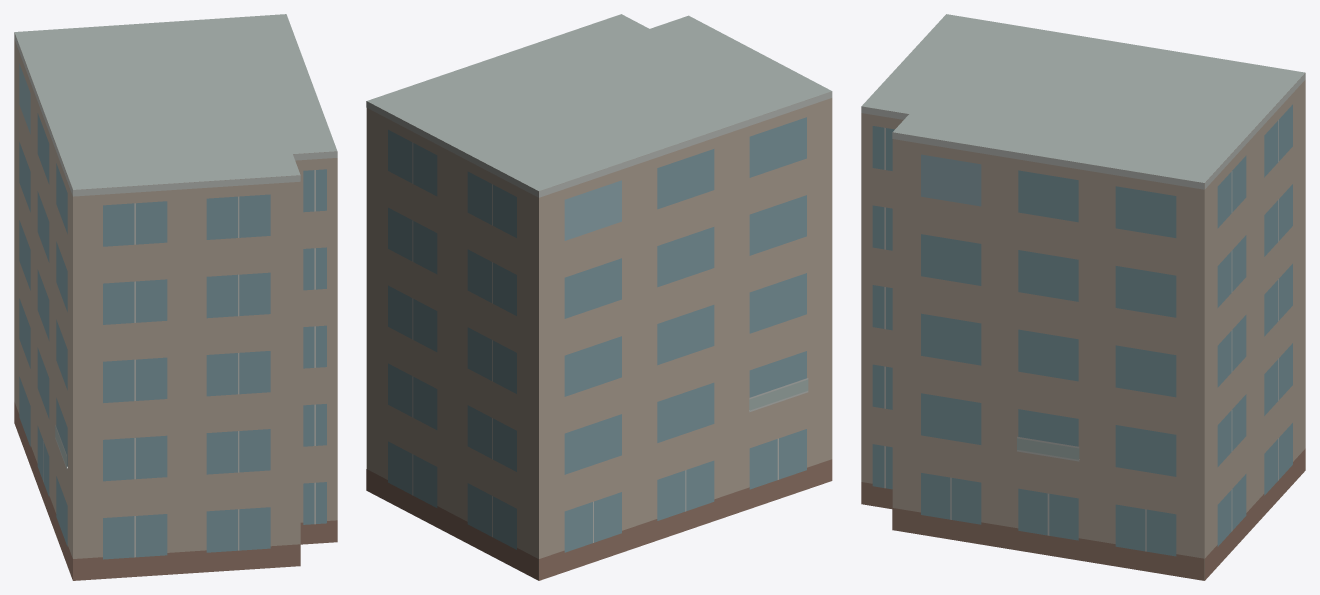
Rendered from survey-upis-32876098.glb.
The picture shows the model from 3 angles, left to right: view 1: azimuth 30°, elevation 25°; view 2: azimuth 150°, elevation 25°; view 3: azimuth 270°, elevation 25°; orthographic projection. The views are drawn at different scales.
Visible parts, largest first — view 1: survey-upis-32876098.tmp; view 2: survey-upis-32876098.tmp; view 3: survey-upis-32876098.tmp.
Boxes of the visible parts, x1,y1,x2,y2 form: survey-upis-32876098.tmp: (14,14,337,580); survey-upis-32876098.tmp: (366,14,832,580); survey-upis-32876098.tmp: (861,14,1305,580).
Size of the model in its own units: 13.22 by 14.5 by 14.68.
